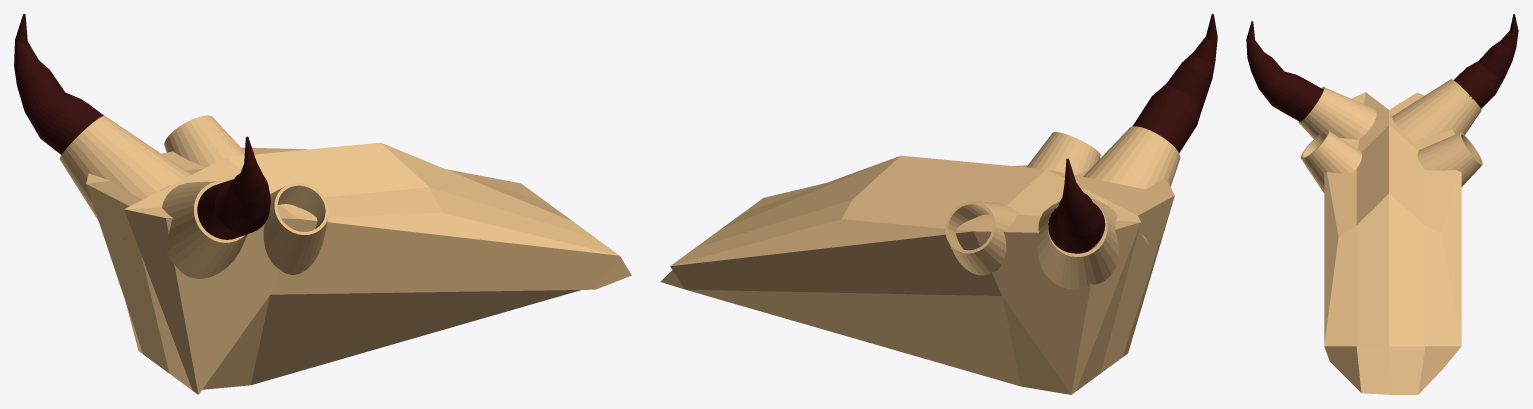
Rendered from skull.glb.
3 views of the same model, side by side, from view 1: azimuth 30°, elevation 25°; view 2: azimuth 150°, elevation 25°; view 3: azimuth 270°, elevation 25° (orthographic). The views are drawn at different scales.
Parts seen in each view (by area): view 1: Skull; view 2: Skull; view 3: Skull.
Part boxes in pixels (x1=…): Skull: x1=14, y1=14, x2=631, y2=394; Skull: x1=660, y1=14, x2=1217, y2=394; Skull: x1=1246, y1=14, x2=1518, y2=394.
Bounding box in the file's own units: 2.56 × 1.53 × 1.68.
